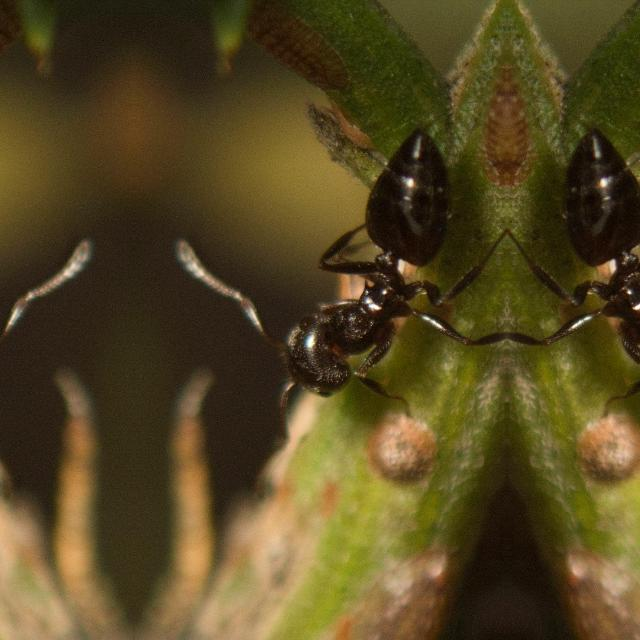Crematogaster: (249, 88, 466, 416), (545, 88, 640, 415)
